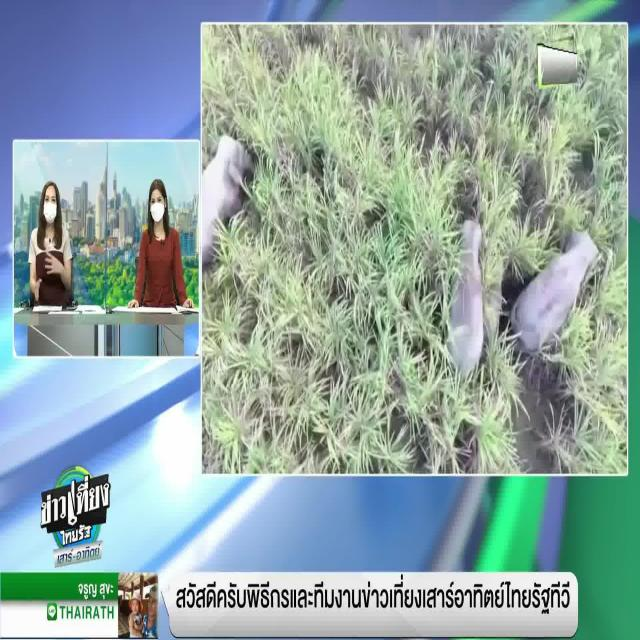Elephant: (512, 234, 602, 355), (447, 216, 488, 384), (204, 135, 253, 264)
